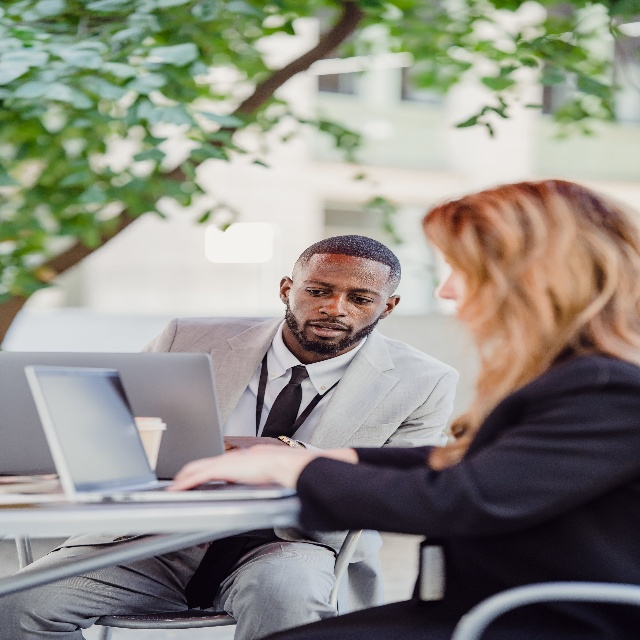Sin_guantes: (163, 445, 317, 496), (221, 431, 282, 453)
